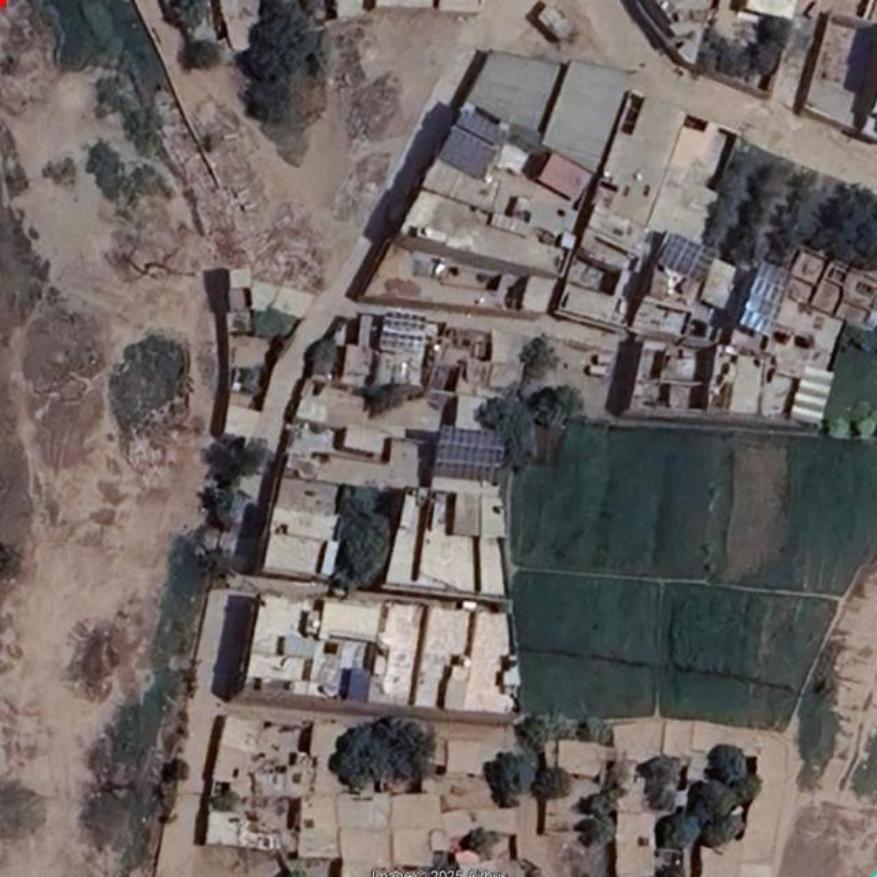Solarpanel: (430, 427, 506, 477), (742, 259, 791, 335), (657, 232, 714, 280)
